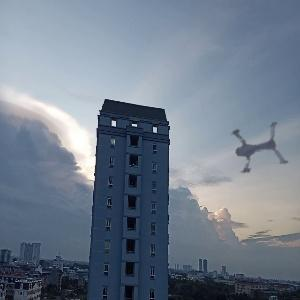drone: (214, 113, 290, 189)
